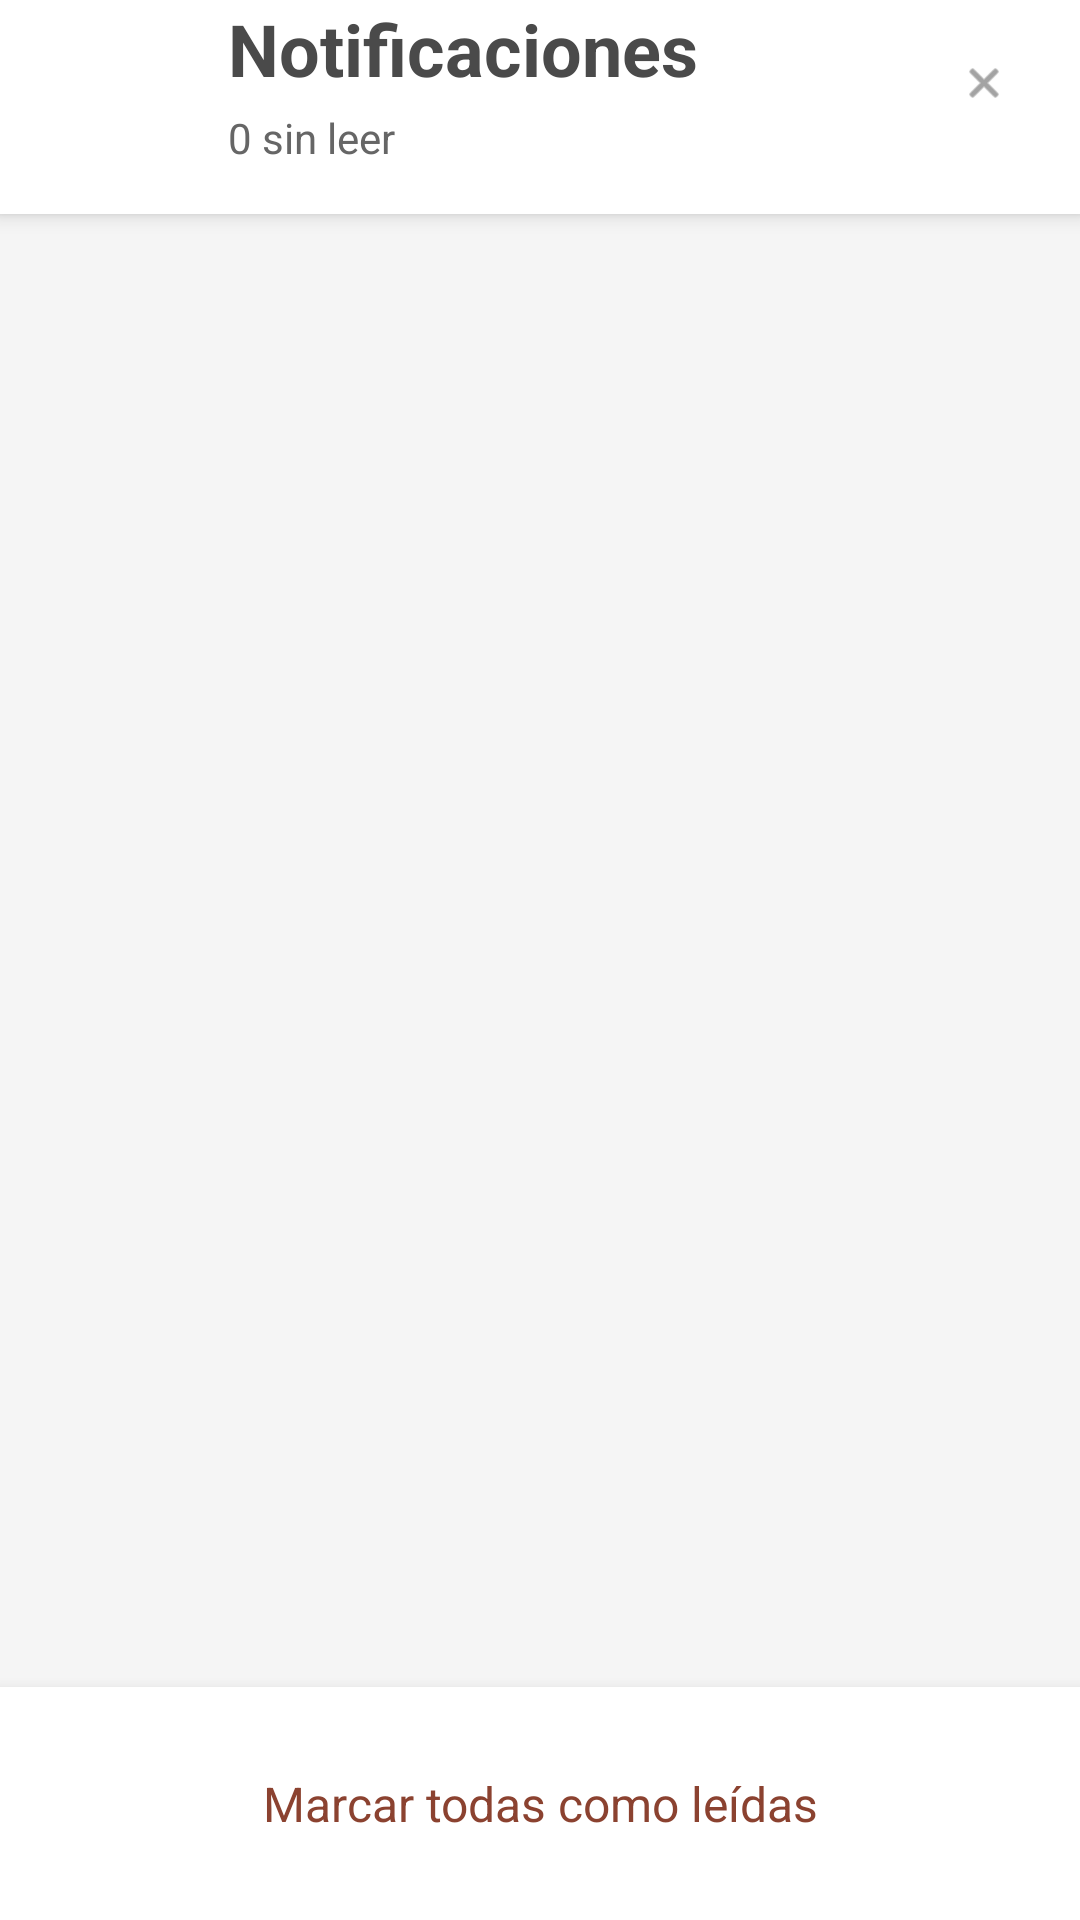

Screen size 1080px×1920px. Icon name, then its center in pixels as (x,y):
Cerrar: (984,83)
